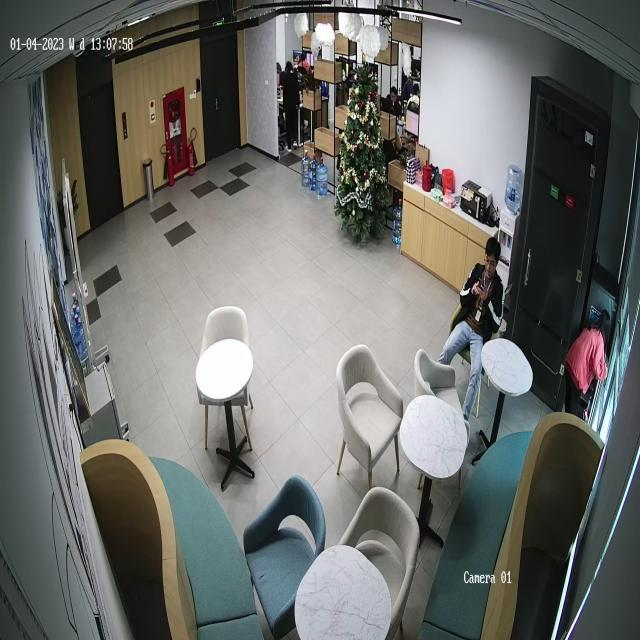person: (439, 237, 504, 422), (564, 320, 609, 420), (281, 60, 300, 150)
